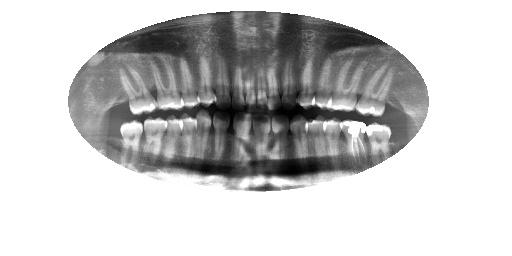i10decay: (207, 107, 232, 161)
i11healthy: (193, 108, 214, 162)
i12healthy: (176, 109, 199, 164)
i13healthy: (162, 114, 187, 163)
i14healthy: (137, 111, 170, 167)
i15healthy: (117, 118, 144, 167)
i2healthy: (363, 121, 395, 165)
i3healthy: (340, 116, 369, 169)
i4healthy: (318, 111, 344, 168)
i5healthy: (304, 115, 327, 166)
i6decay: (285, 115, 310, 167)
i7decay: (270, 112, 290, 163)
i8decay: (248, 109, 274, 168)
i9decay: (228, 106, 254, 165)
u10decay: (225, 52, 247, 112)
u11decay: (211, 50, 232, 113)
u12healthy: (190, 44, 219, 108)
u13healthy: (172, 48, 203, 110)
u14healthy: (145, 49, 187, 114)
u15healthy: (110, 59, 161, 119)
u2healthy: (355, 55, 397, 121)
u3healthy: (324, 53, 370, 116)
u4healthy: (309, 48, 337, 113)
u5healthy: (294, 51, 319, 110)
u6decay: (279, 46, 299, 111)
u7decay: (265, 51, 283, 114)
u8decay: (252, 52, 270, 112)
u9decay: (241, 52, 259, 114)
